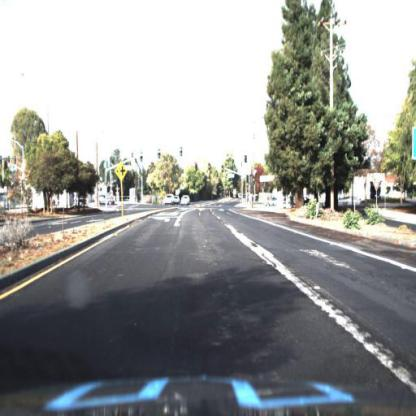biker: (160, 195, 163, 206)
car: (91, 194, 114, 209), (165, 191, 177, 207), (265, 196, 281, 208), (182, 193, 191, 211), (174, 195, 181, 208)
trafficLight-Yellow: (252, 172, 259, 189), (208, 162, 213, 175), (221, 163, 226, 176), (251, 176, 257, 186), (246, 178, 250, 190)
